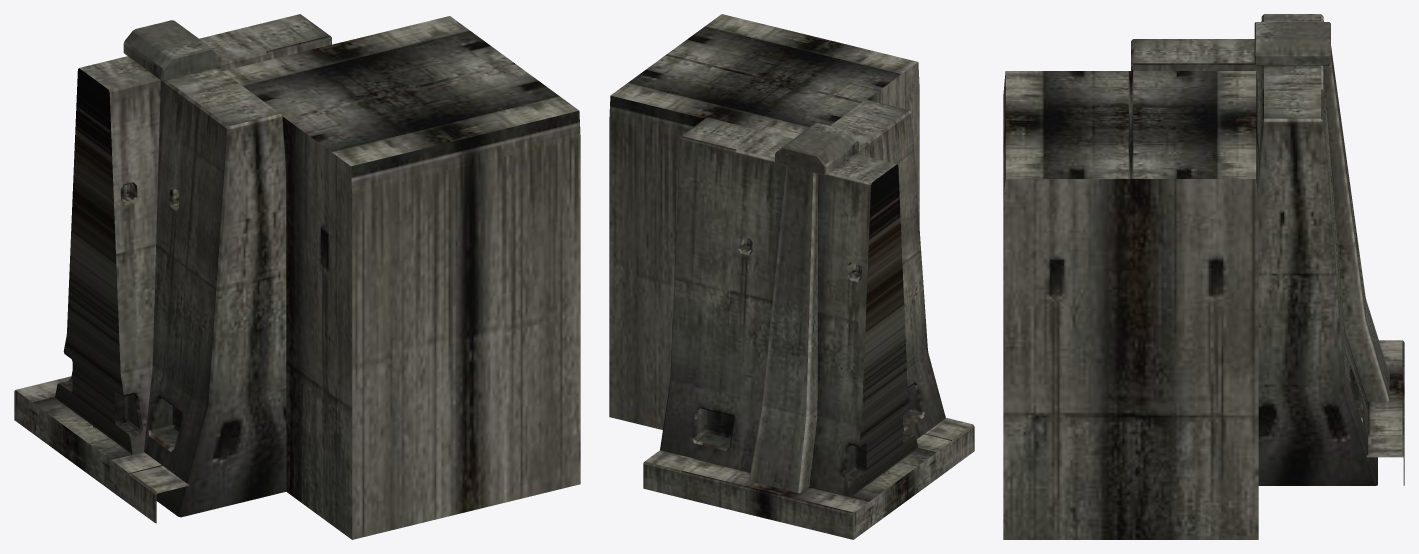
Rendered from stone-wall-es-fill.glb.
3 views of the same model, side by side, from view 1: azimuth 30°, elevation 25°; view 2: azimuth 150°, elevation 25°; view 3: azimuth 270°, elevation 25° (orthographic). The views are drawn at different scales.
Parts seen in each view (by area): view 1: body; view 2: body; view 3: body.
Part boxes in pixels (left/top/right/bottom): body: left=14, top=14, right=580, bottom=539; body: left=609, top=14, right=974, bottom=539; body: left=1003, top=14, right=1404, bottom=539.
Size of the model in its own units: 1.24 by 1.32 by 1.24.
1 material, 1 textured.
